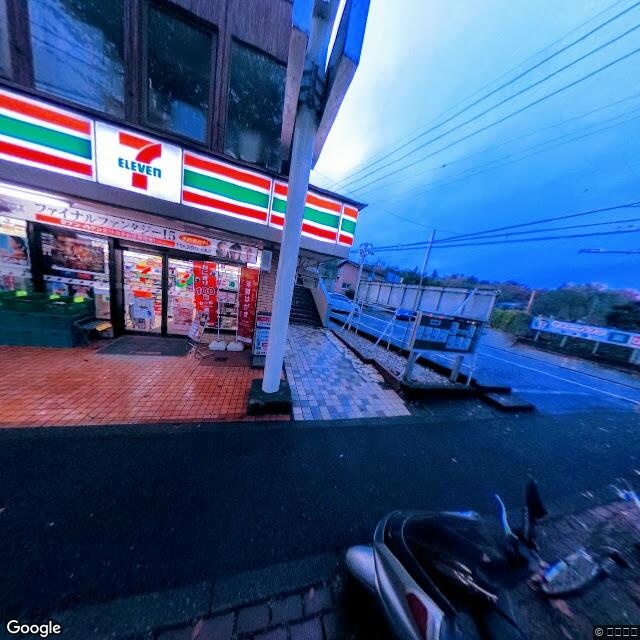7-eleven: (1, 88, 359, 255)
